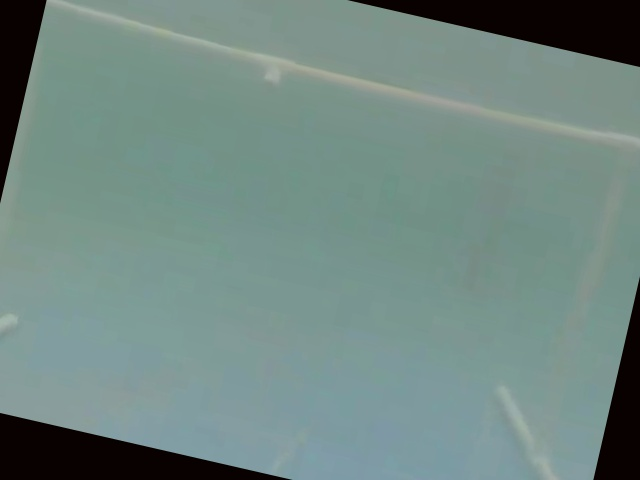gate: (36, 2, 639, 472)
